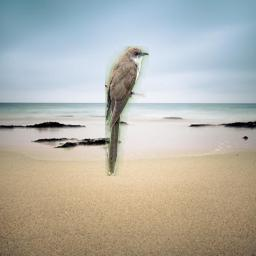Cuckoo: (105, 46, 149, 176)
